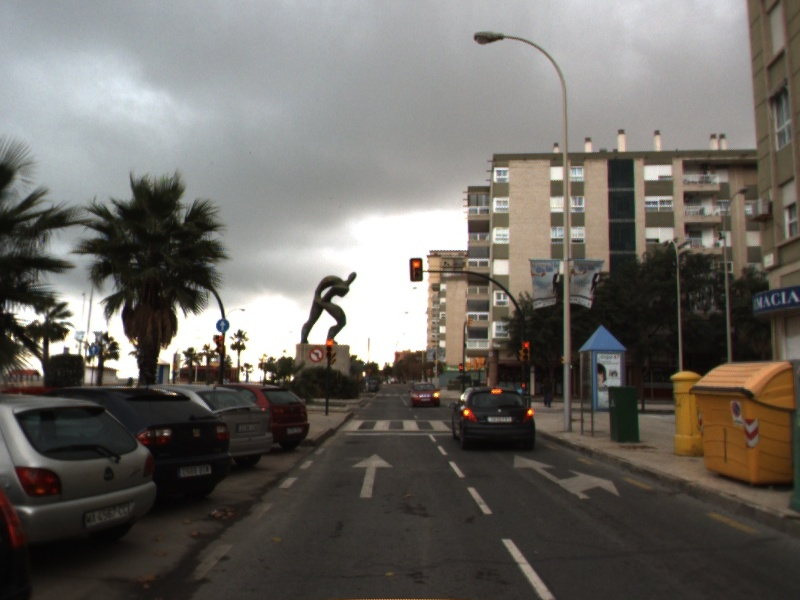STRAIGHT: (350, 452, 395, 499)
STRAIGHT_RIGHT: (512, 452, 622, 500)
